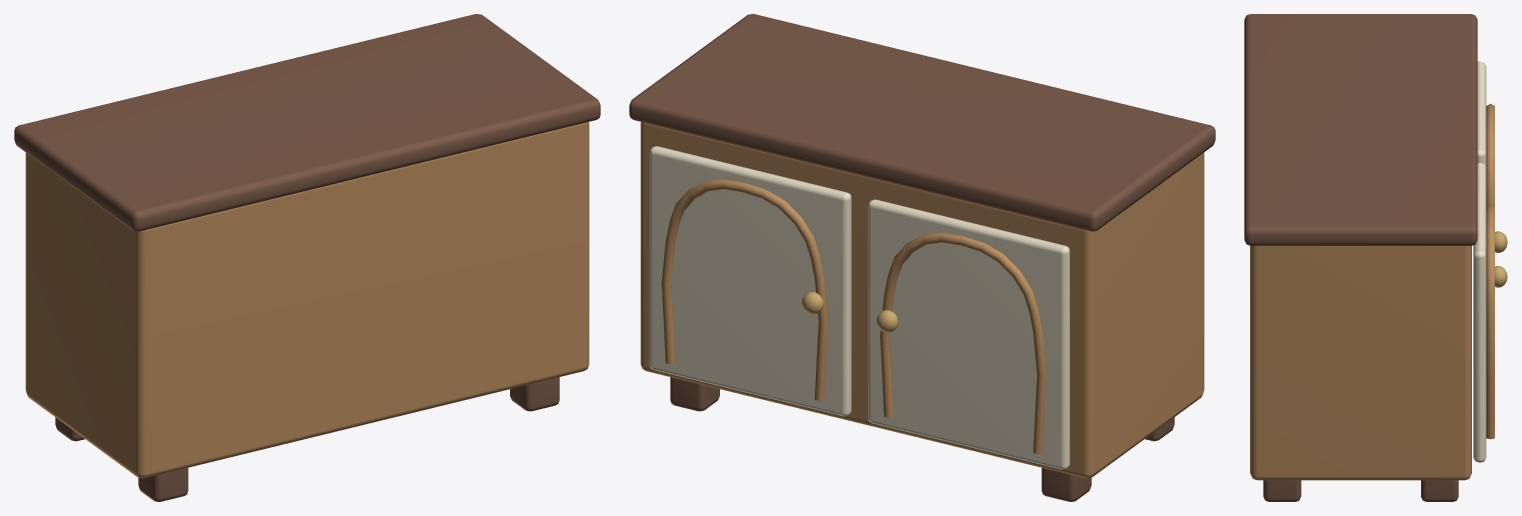
The model's file is dresser.arch.glb.
The picture shows the model from 3 angles, left to right: view 1: azimuth 30°, elevation 25°; view 2: azimuth 150°, elevation 25°; view 3: azimuth 270°, elevation 25°; orthographic projection. The views are drawn at different scales.
Visible parts, largest first — view 1: Cabinet carcass; view 2: Cabinet carcass; view 3: Cabinet carcass.
Boxes of the visible parts, x1,y1,x2,y2 form: Cabinet carcass: (14,14,600,501); Cabinet carcass: (629,14,1215,501); Cabinet carcass: (1244,14,1507,501).
Size of the model in its own units: 1.76 by 1.1 by 0.9025.
